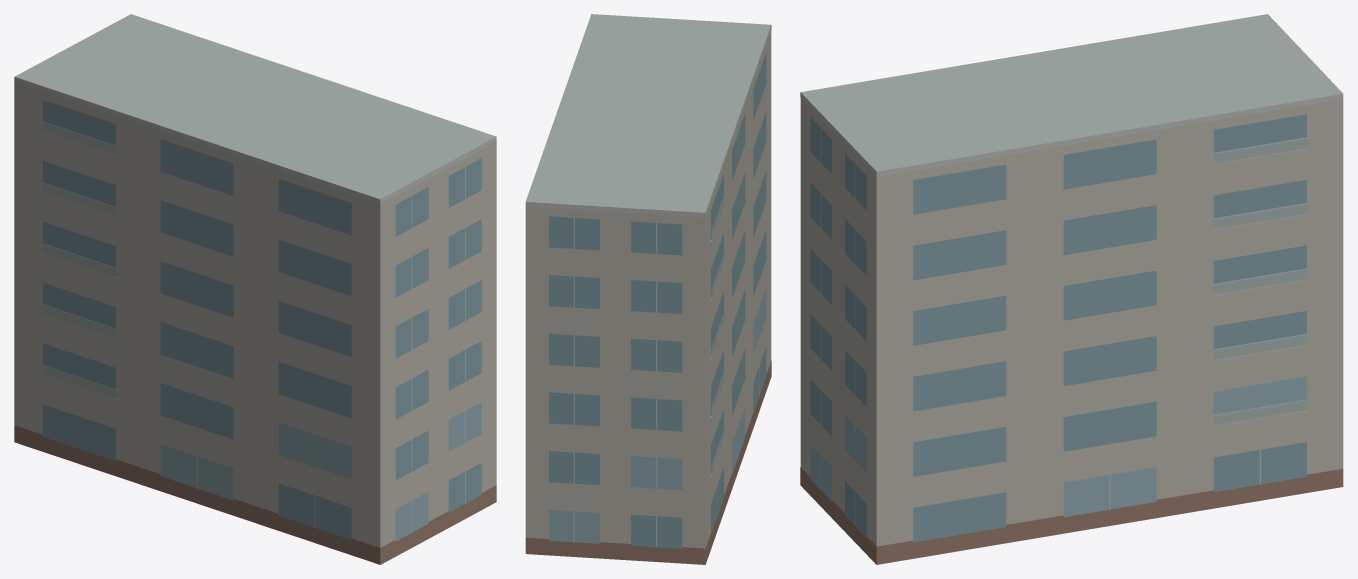
The model's file is survey-upis-32759307.glb.
3 views of the same model, side by side, from view 1: azimuth 30°, elevation 25°; view 2: azimuth 150°, elevation 25°; view 3: azimuth 270°, elevation 25° (orthographic). The views are drawn at different scales.
Parts seen in each view (by area): view 1: survey-upis-32759307.tmp; view 2: survey-upis-32759307.tmp; view 3: survey-upis-32759307.tmp.
Part boxes in pixels (x1,y1,x2,y2): survey-upis-32759307.tmp: (14,14,496,564); survey-upis-32759307.tmp: (525,14,771,564); survey-upis-32759307.tmp: (800,14,1343,564).
Size of the model in its own units: 15.06 by 17.5 by 21.9.
